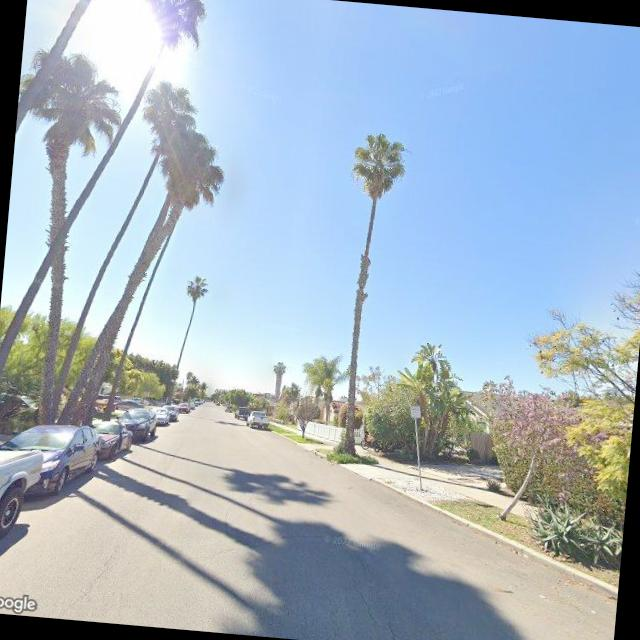pothole: (339, 571, 469, 640)
